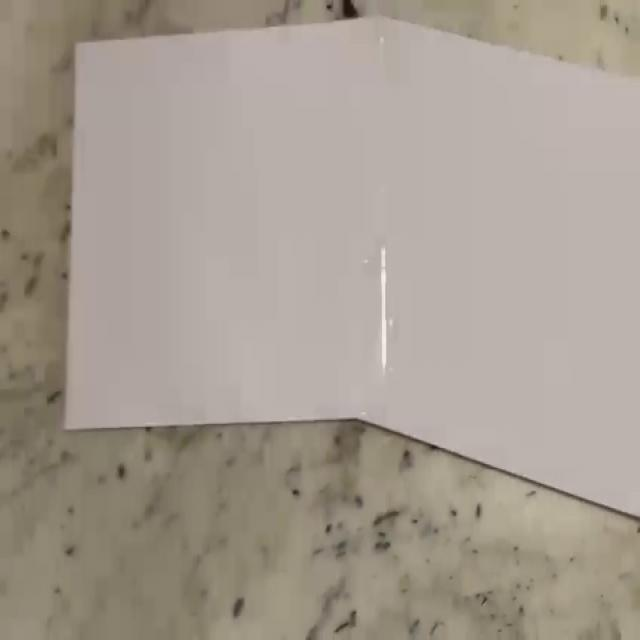road: (60, 15, 640, 517)
